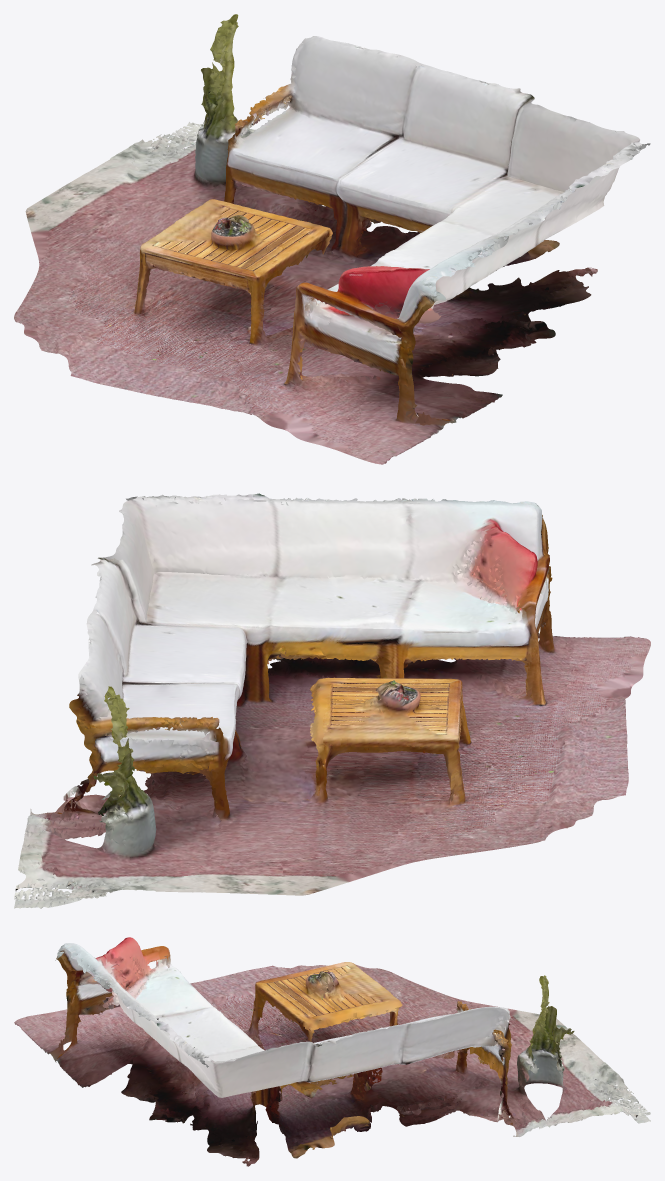
File: patio_furniture_set_02.glb
The picture shows the model from 3 angles, top to bottom: view 1: azimuth 30°, elevation 25°; view 2: azimuth 150°, elevation 25°; view 3: azimuth 270°, elevation 25°; orthographic projection. The views are drawn at different scales.
Visible parts, largest first — view 1: Object_2, Object_3, Object_4; view 2: Object_2, Object_3, Object_4; view 3: Object_2, Object_3, Object_4, Object_6, Object_5, Object_7, Object_8.
Boxes of the visible parts, box(x1,y1,x2,y2) form: Object_2: box(15, 14, 650, 435); Object_3: box(14, 23, 642, 464); Object_4: box(132, 45, 613, 420); Object_2: box(14, 493, 628, 908); Object_3: box(69, 496, 650, 895); Object_4: box(15, 496, 533, 898); Object_2: box(50, 943, 650, 1165); Object_3: box(14, 937, 614, 1117); Object_4: box(57, 943, 638, 1166); Object_6: box(56, 945, 646, 1151); Object_5: box(68, 949, 647, 1151); Object_7: box(66, 945, 648, 1137); Object_8: box(71, 947, 640, 1154).
Bounding box in the file's own units: 2.92 × 0.9091 × 3.85.
Materials: 7 (7 with a texture image).
